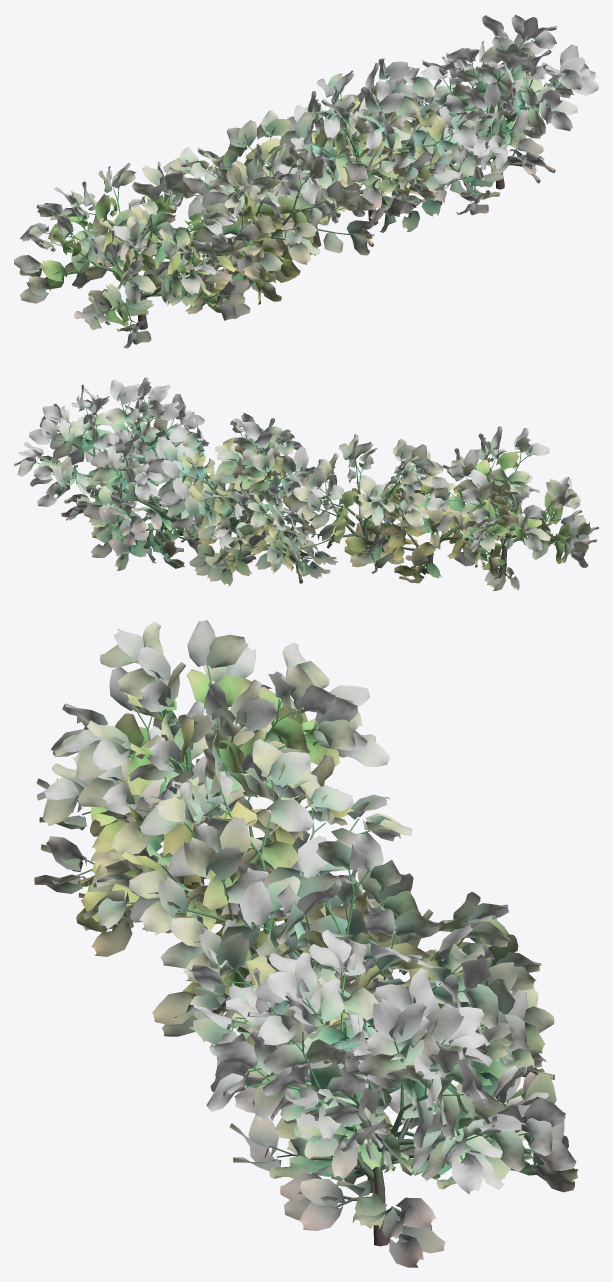
The model's file is Bushes_Group.fbx.
3 renders of one model, top to bottom at view 1: azimuth 30°, elevation 25°; view 2: azimuth 150°, elevation 25°; view 3: azimuth 270°, elevation 25°, orthographic. The views are drawn at different scales.
Visible parts, largest first — view 1: BushesMain, BushesLeafs; view 2: BushesMain, BushesLeafs; view 3: BushesMain, BushesLeafs.
Boxes of the visible parts, <box> form: BushesMain: <box>14,14,598,348</box>; BushesLeafs: <box>45,37,566,332</box>; BushesMain: <box>14,377,598,590</box>; BushesLeafs: <box>36,397,576,578</box>; BushesMain: <box>34,620,578,1267</box>; BushesLeafs: <box>77,664,536,1246</box>.
Bounding box in the file's own units: 10.7 × 2.94 × 4.92.
